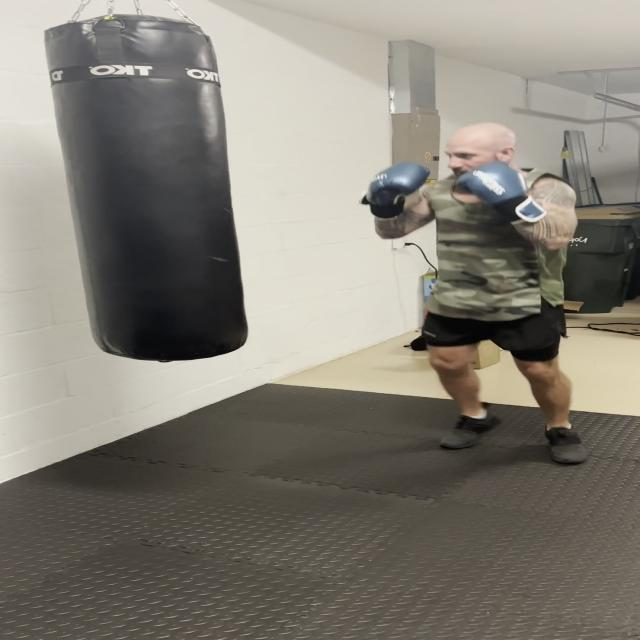bag: (44, 14, 208, 350)
no punch: (353, 124, 580, 258), (220, 13, 222, 18)
